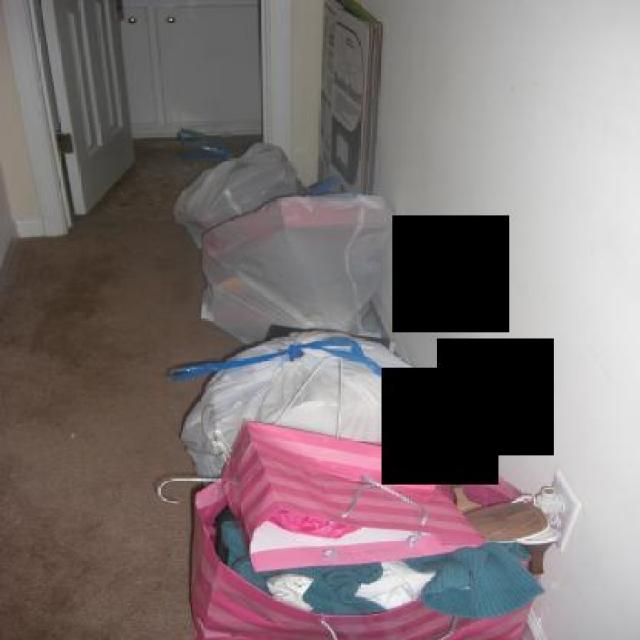plastic bag: (175, 329, 438, 480), (194, 188, 395, 346), (169, 140, 305, 249)
